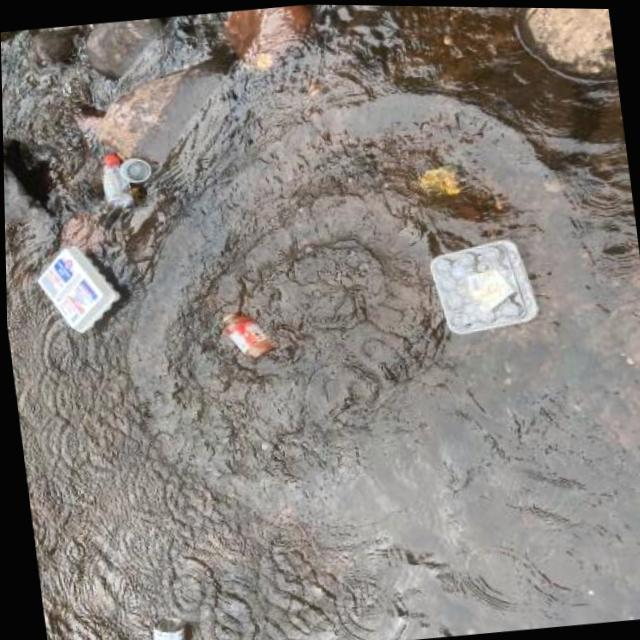Bottle-Glass: (214, 303, 275, 367)
Can-Metal: (415, 159, 469, 206), (139, 605, 190, 640)
Plastic: (419, 227, 545, 344), (23, 229, 130, 345), (87, 143, 155, 218)
